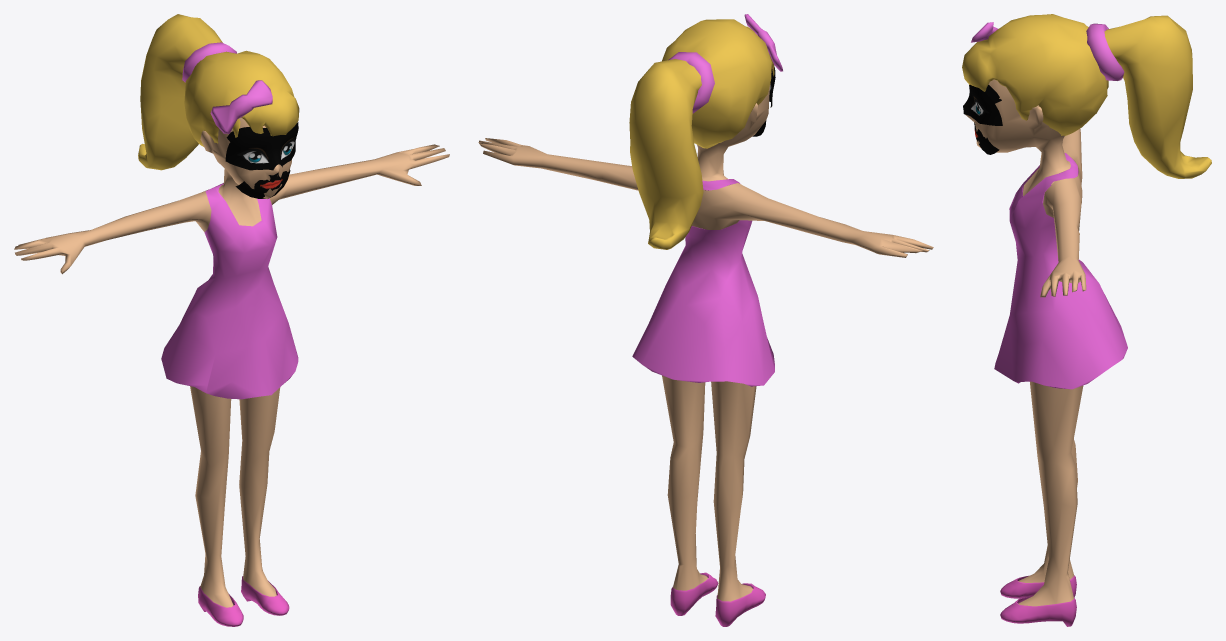
File: OyuncakBebek.fbx
3 renders of one model, left to right at view 1: azimuth 30°, elevation 25°; view 2: azimuth 150°, elevation 25°; view 3: azimuth 270°, elevation 25°, orthographic. The views are drawn at different scales.
Parts seen in each view (by area): view 1: bebek, goz, dudak; view 2: bebek; view 3: bebek, goz.
Boxes of the visible parts, x1=… form: bebek: x1=14, y1=14, x2=449, y2=626; goz: x1=225, y1=122, x2=298, y2=170; dudak: x1=235, y1=169, x2=290, y2=198; bebek: x1=478, y1=14, x2=933, y2=626; bebek: x1=962, y1=14, x2=1211, y2=626; goz: x1=963, y1=84, x2=1002, y2=125.
Size of the model in its own units: 129 by 161 by 61.07.
